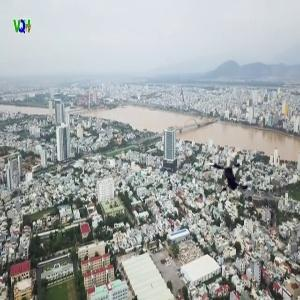drone: (196, 151, 259, 214)
